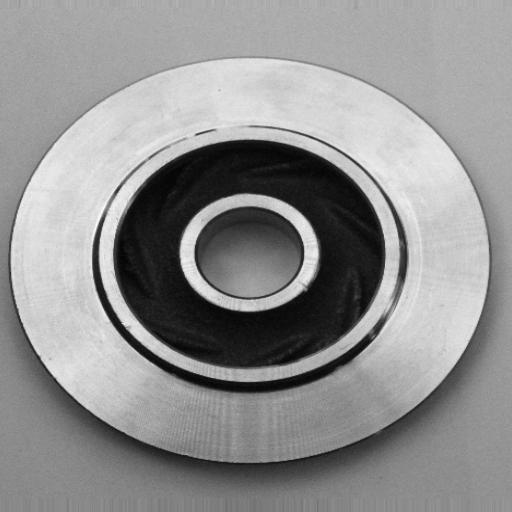scratch: (367, 271, 416, 354), (203, 115, 260, 137)
unpolished_casting: (9, 54, 494, 467)
